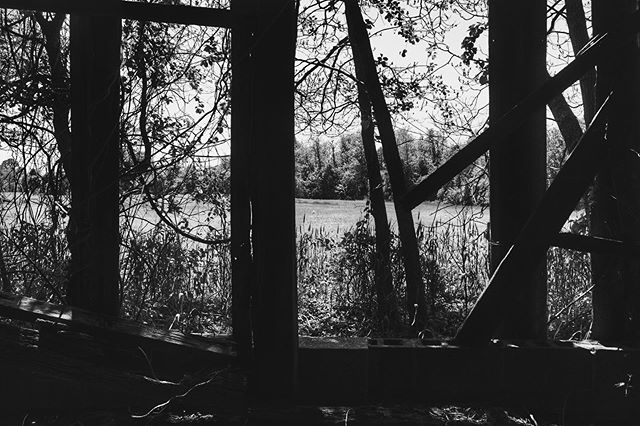vegetation: (1, 1, 634, 423)
